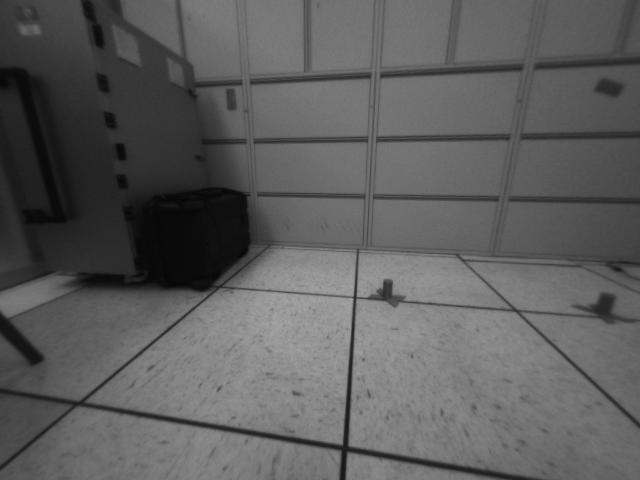X: (570, 292, 635, 323), (367, 278, 405, 308)
